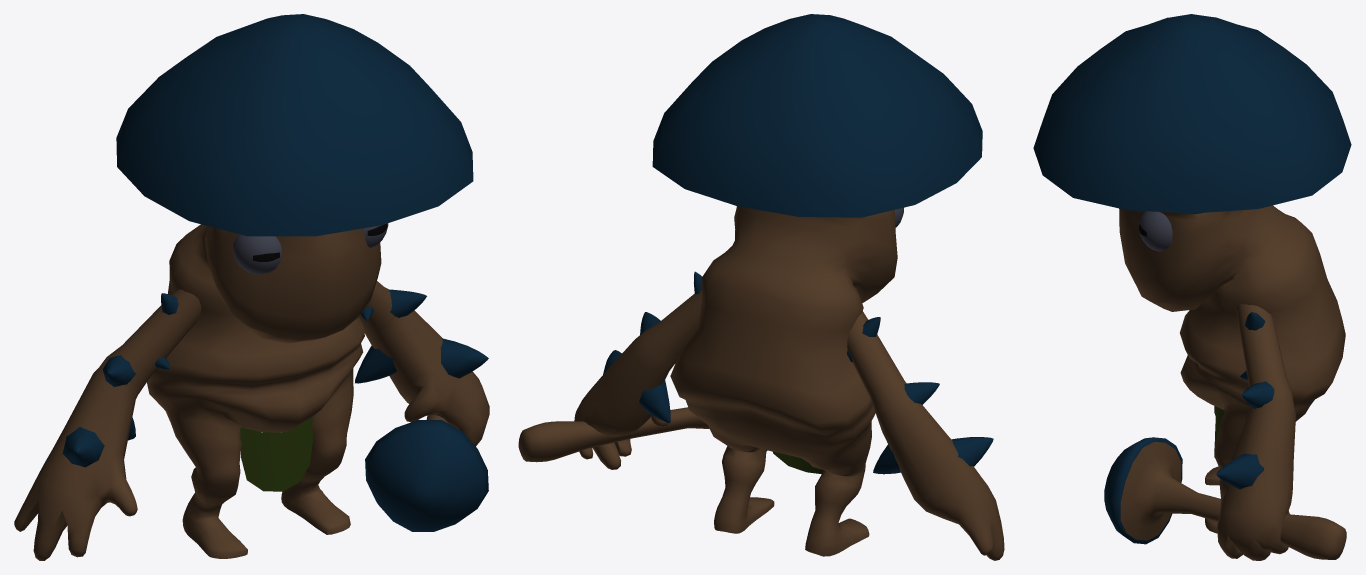
Rendered from MushroomKing.obj.
The picture shows the model from 3 angles, left to right: view 1: azimuth 30°, elevation 25°; view 2: azimuth 150°, elevation 25°; view 3: azimuth 270°, elevation 25°; orthographic projection. The views are drawn at different scales.
Visible parts, largest first — view 1: MushroomKing_Cube.047, Mushroom_Cube.056; view 2: MushroomKing_Cube.047, Mushroom_Cube.056; view 3: MushroomKing_Cube.047, Mushroom_Cube.056.
Boxes of the visible parts, x1=… form: MushroomKing_Cube.047: x1=14, y1=14, x2=489, y2=560; Mushroom_Cube.056: x1=365, y1=415, x2=488, y2=531; MushroomKing_Cube.047: x1=574, y1=14, x2=1004, y2=560; Mushroom_Cube.056: x1=518, y1=407, x2=767, y2=462; MushroomKing_Cube.047: x1=1033, y1=14, x2=1351, y2=560; Mushroom_Cube.056: x1=1104, y1=437, x2=1346, y2=559.
Bounding box in the file's own units: 3.28 × 3.45 × 2.05.
